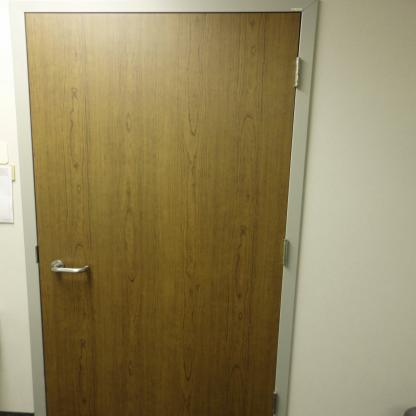door: (28, 13, 303, 415)
hinged: (281, 239, 291, 270), (294, 55, 302, 90), (271, 390, 279, 414)
lever: (48, 258, 92, 278)
